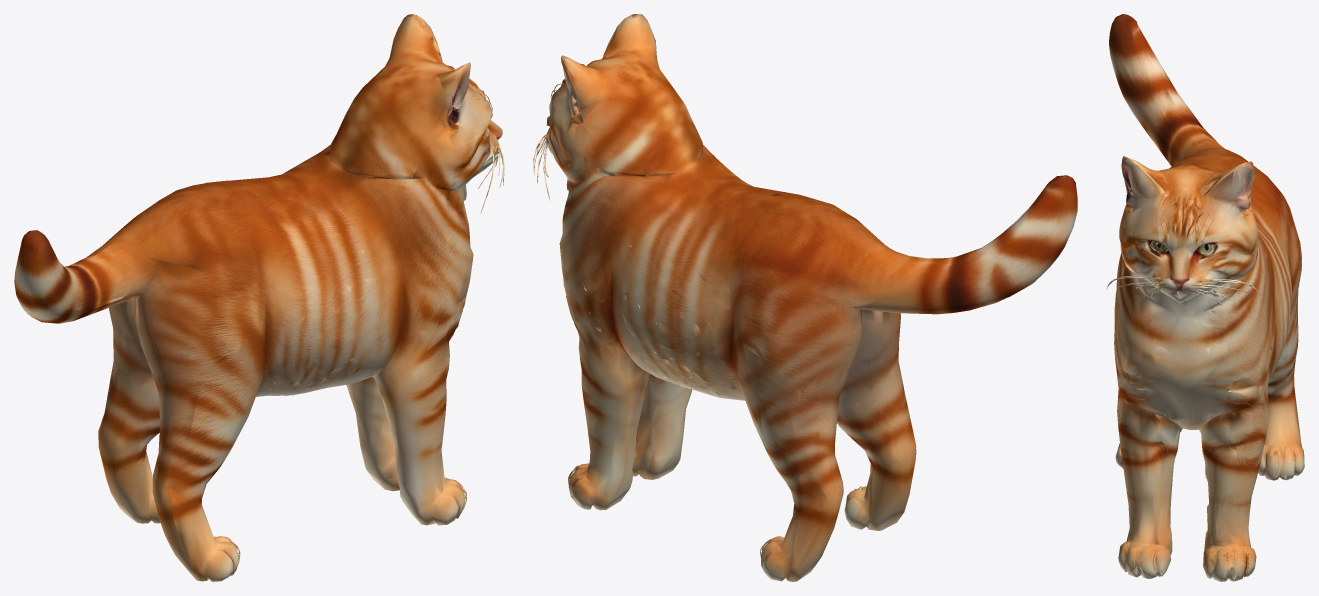
Rendered from FINICKY.glb.
The picture shows the model from 3 angles, left to right: view 1: azimuth 30°, elevation 25°; view 2: azimuth 150°, elevation 25°; view 3: azimuth 270°, elevation 25°; orthographic projection. The views are drawn at different scales.
Parts seen in each view (by area): view 1: fit; view 2: fit; view 3: fit.
Part boxes in pixels (x1,y1,x2,y2): fit: (14, 14, 504, 581); fit: (533, 14, 1077, 581); fit: (1106, 14, 1304, 581).
Size of the model in its own units: 1.17 by 1 by 0.4245.
Materials: 1 (1 with a texture image).
